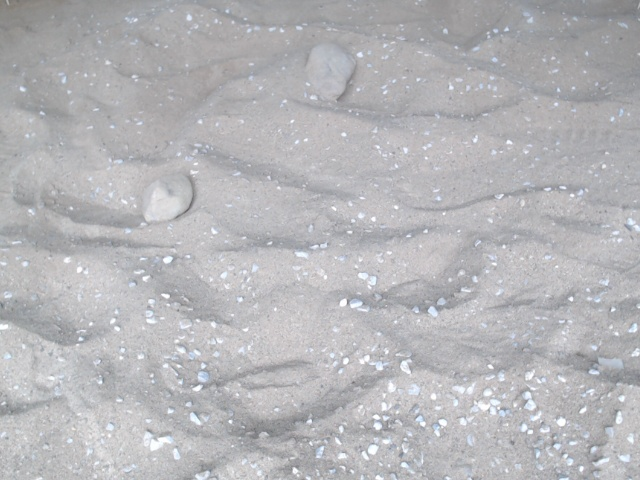rock: (299, 36, 361, 107), (138, 169, 197, 228)
